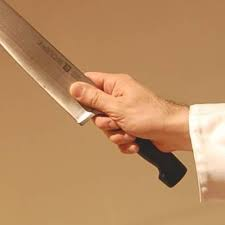knife: (8, 1, 192, 190)
